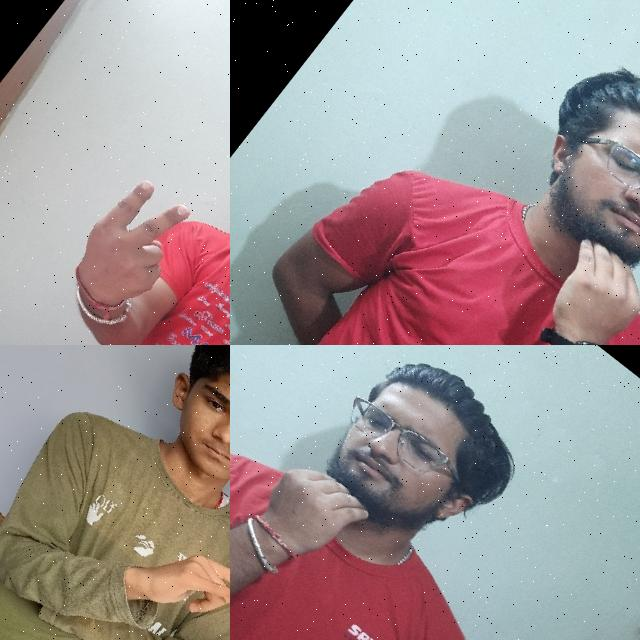Chin Flick: (237, 345, 515, 613), (453, 43, 640, 345)
Corna: (133, 518, 230, 640)
Reversed Victory: (34, 157, 215, 345)
